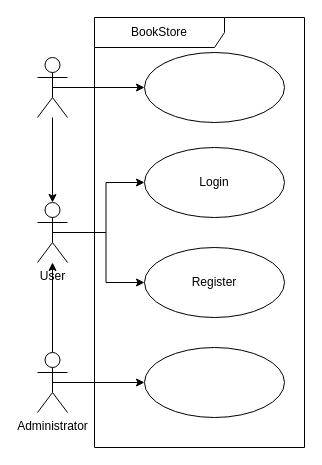
Image size: 322x465. Some labels were removed from this diagram. Here are the shapes that lost their labels. From the top down, the centre of each, then its label:
At point 52,87: "Customer".
At point 214,87: "Update Account".
At point 214,382: "Delete Account".
